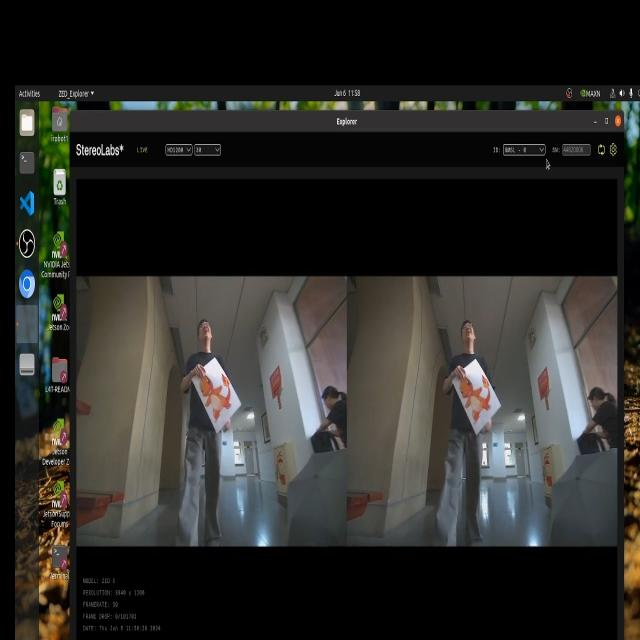red: (196, 372, 241, 442), (455, 368, 499, 428)
